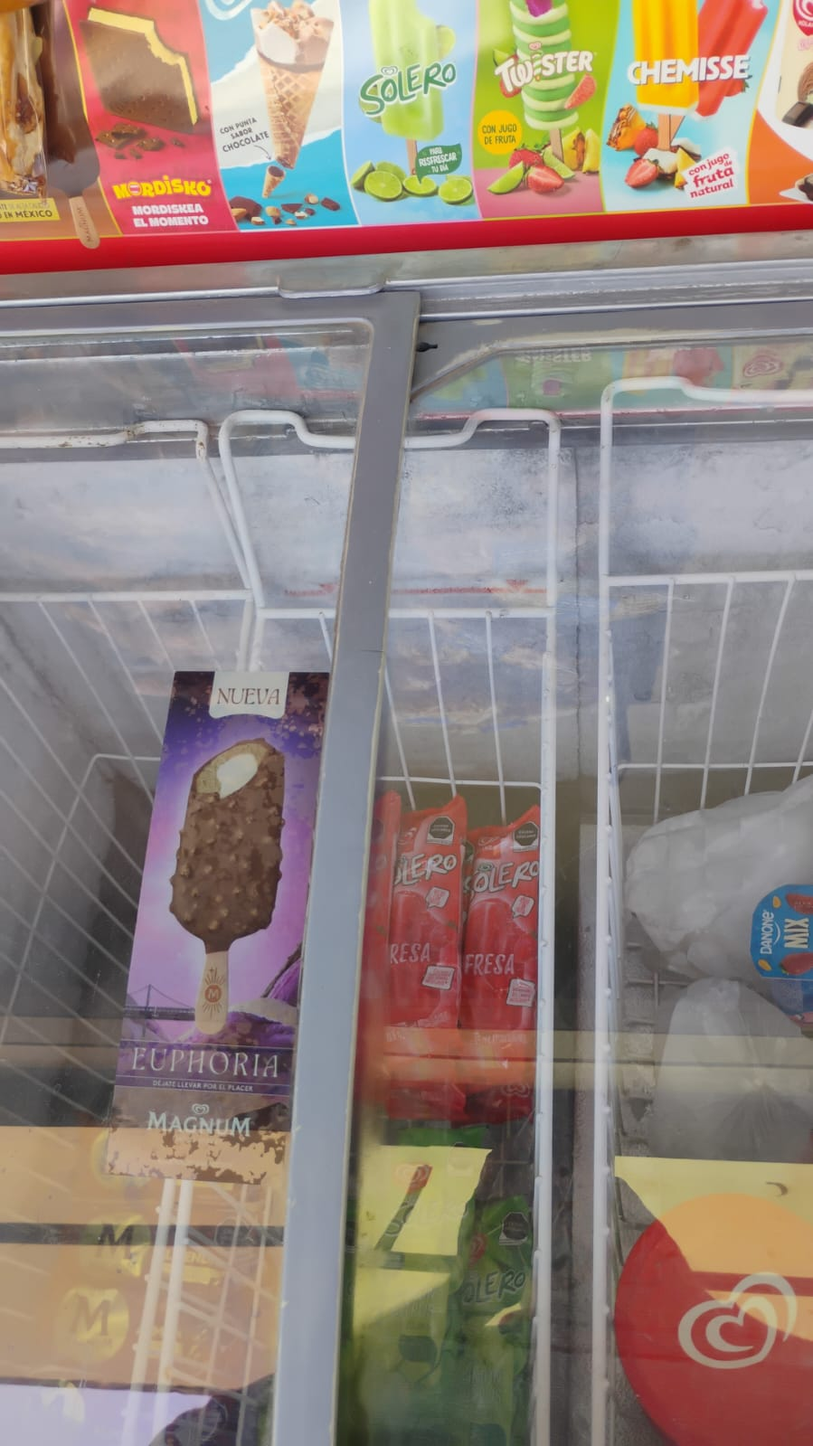rejilla: (125, 1181, 173, 1443), (539, 619, 554, 1445), (155, 1182, 190, 1445), (594, 786, 607, 1445), (610, 572, 812, 582), (600, 579, 607, 789), (1, 594, 249, 599), (239, 601, 251, 671), (392, 610, 553, 615), (252, 617, 262, 671), (262, 612, 334, 615)
